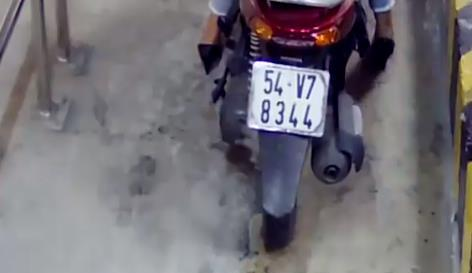lisence: (249, 61, 330, 137)
